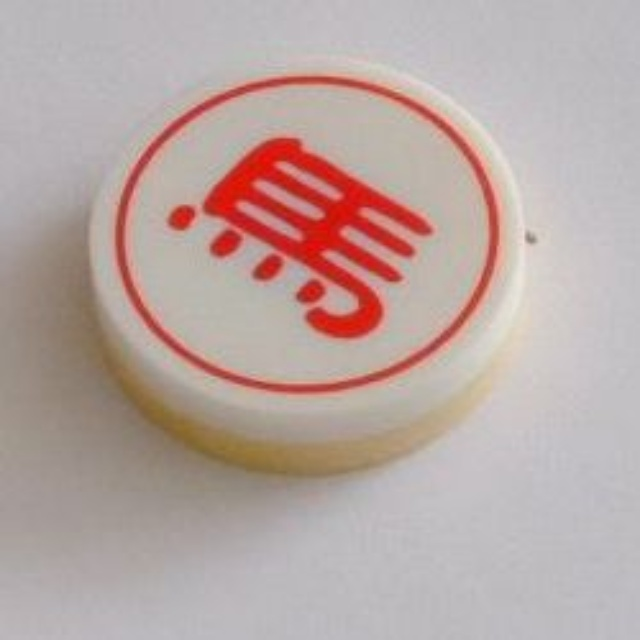red_ma: (79, 41, 535, 481)
